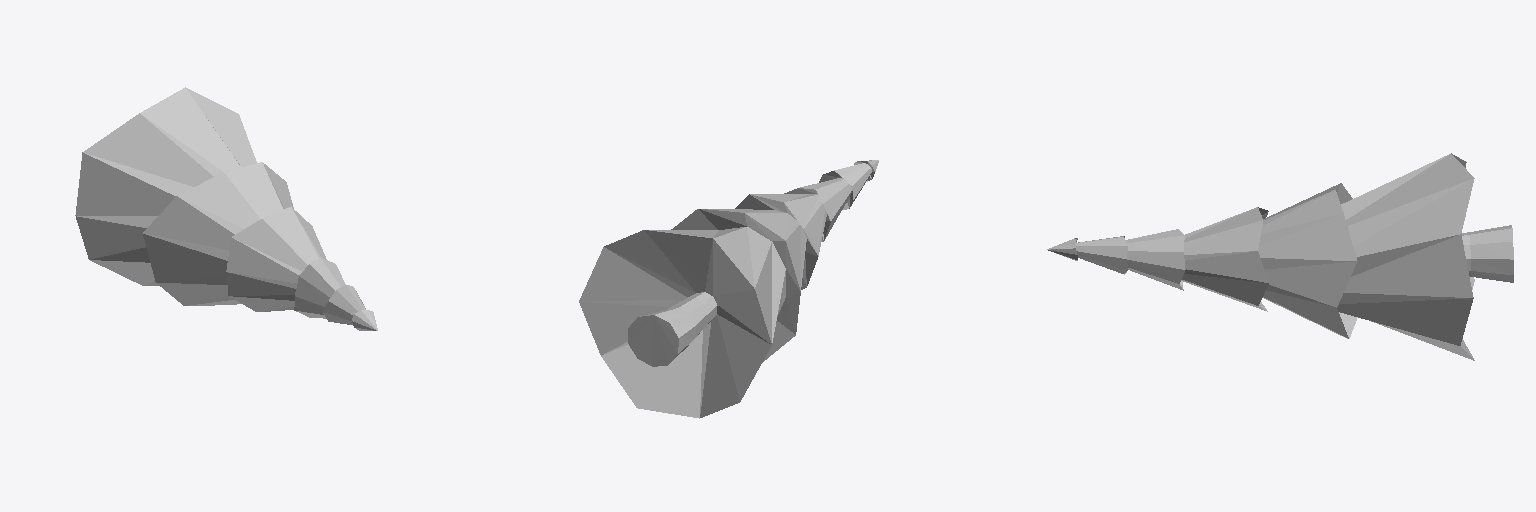
Rendered from Pine2.obj.
The picture shows the model from 3 angles: view 1: azimuth 30°, elevation 25°; view 2: azimuth 150°, elevation 25°; view 3: azimuth 270°, elevation 25°; orthographic projection.
Visible parts, largest first — view 1: Cylinder; view 2: Cylinder; view 3: Cylinder.
Boxes of the visible parts, x1=… form: Cylinder: x1=75, y1=87, x2=377, y2=330; Cylinder: x1=579, y1=160, x2=878, y2=418; Cylinder: x1=1047, y1=153, x2=1513, y2=360.
Bounding box in the file's own units: 2.58 × 2.43 × 5.66.